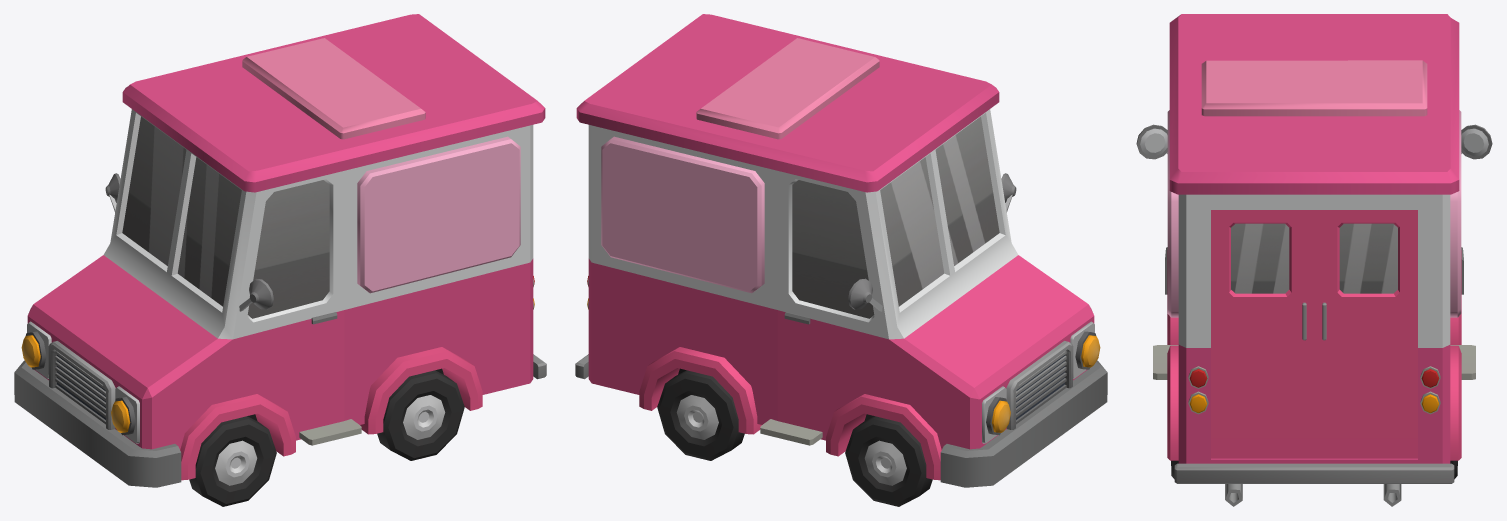
File: Car_14_D.gltf
3 renders of one model, left to right at view 1: azimuth 30°, elevation 25°; view 2: azimuth 150°, elevation 25°; view 3: azimuth 270°, elevation 25°, orthographic. The views are drawn at different scales.
Visible parts, largest first — view 1: Car_14_D, RL, FL; view 2: Car_14_D, RR, FR; view 3: Car_14_D.
Boxes of the visible parts, x1,y1,x2,y2 form: Car_14_D: [14, 14, 546, 487]; RL: [377, 370, 464, 460]; FL: [189, 416, 276, 506]; Car_14_D: [575, 14, 1107, 487]; RR: [657, 370, 744, 460]; FR: [845, 416, 932, 506]; Car_14_D: [1136, 14, 1492, 506].
Size of the model in its own units: 2.75 by 2.1 by 1.8.
4 materials, 4 textured.
